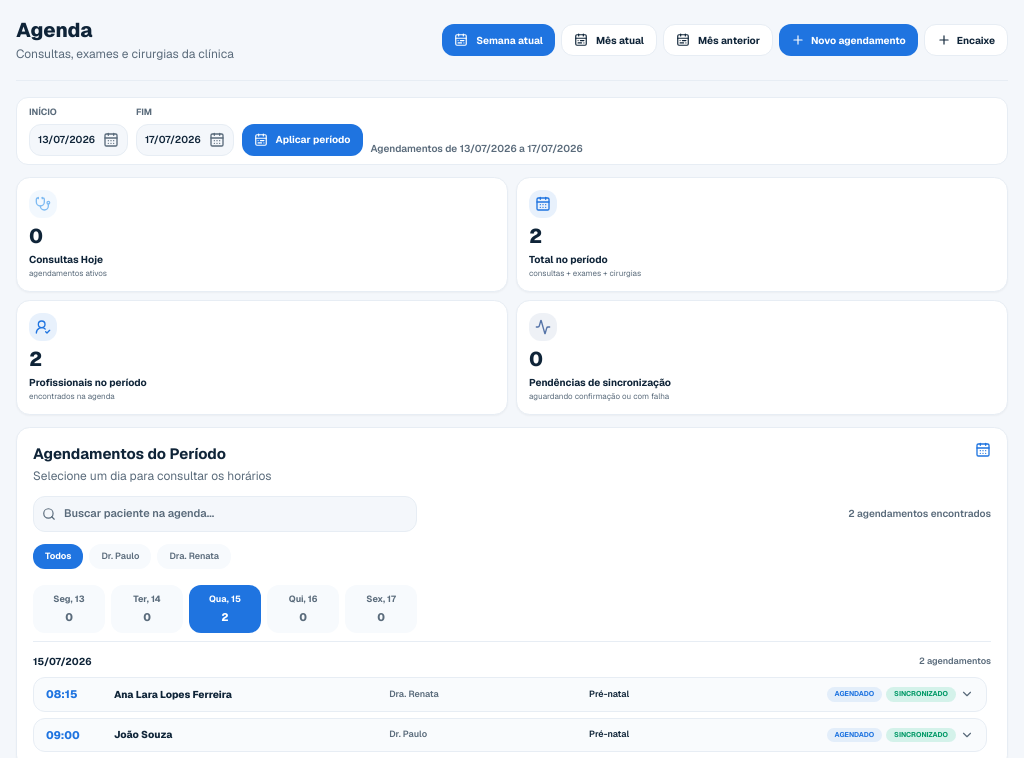
Test: AgendaClient › should_filter_patients_without_fetching_and_combine_with_doctor
The image size is (1024, 758).
Type "  ferreira   ana " into the search field labelled "Buscar paciente na agenda" at (236, 514), box top-left (64, 505), bottom-right (408, 522)
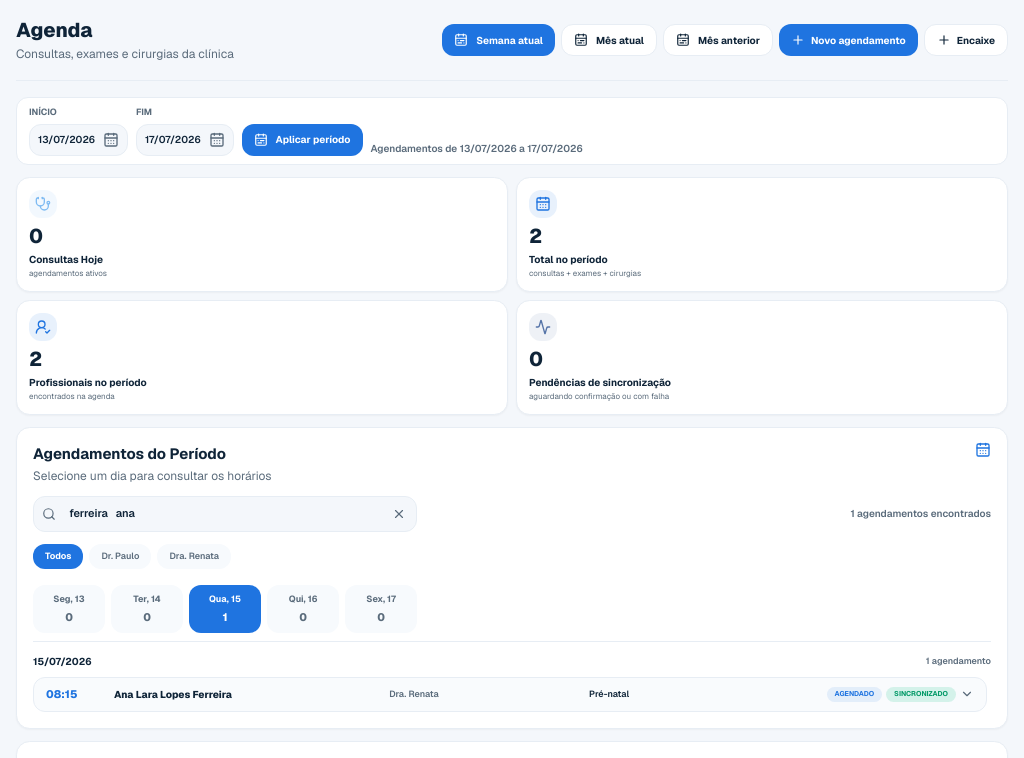
Expected: the text "Ana Lara Lopes Ferreira" is shown, top-left (114, 688), bottom-right (232, 701)
Result: the button "João Souza" is gone
Result: the text "1 agendamentos encontrados" is shown at top-left (850, 506), bottom-right (991, 521)
Press Escape in the search field named "Buscar paciente na agenda", box top-left (64, 505), bottom-right (382, 522)
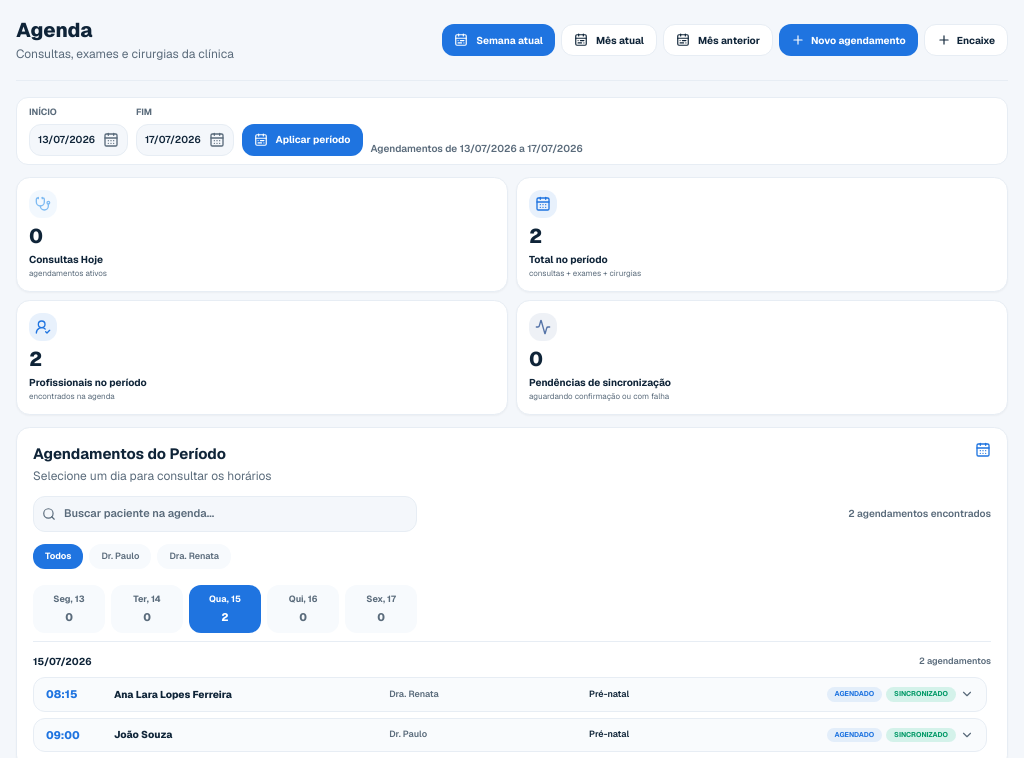
Result: the text "João Souza" is shown at top-left (114, 728), bottom-right (172, 741)
Click the button "Dra. Renata" at (194, 556), box top-left (157, 544), bottom-right (231, 569)
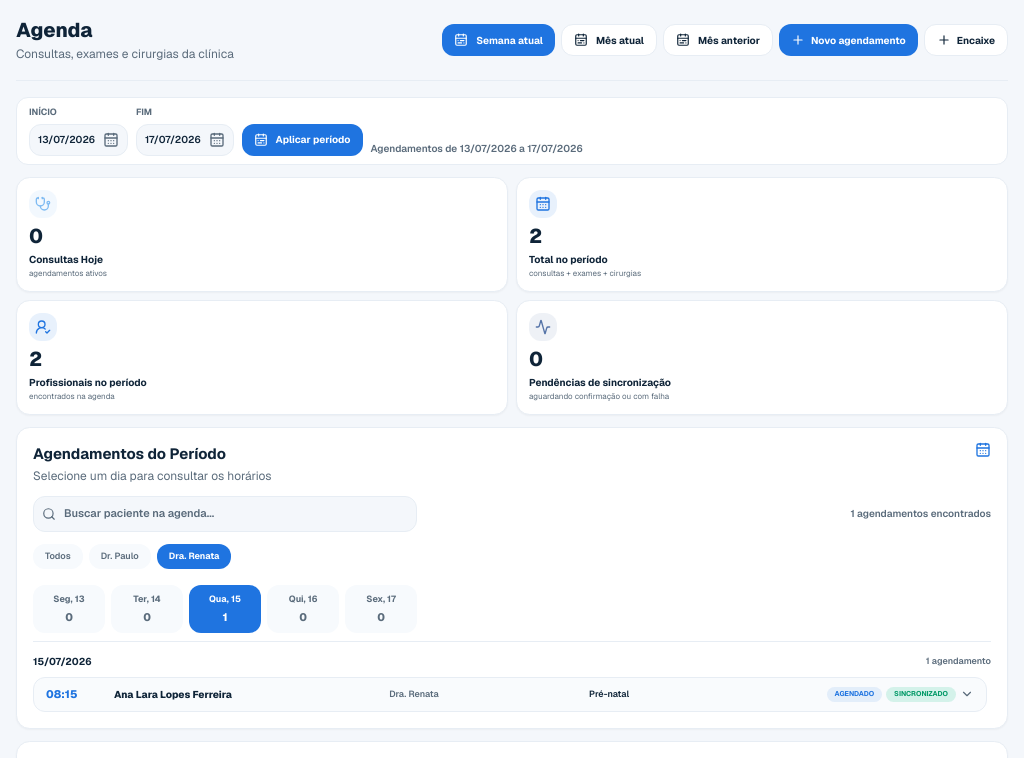
Type "joao" into the search field labelled "Buscar paciente na agenda" at (236, 514), box top-left (64, 505), bottom-right (408, 522)
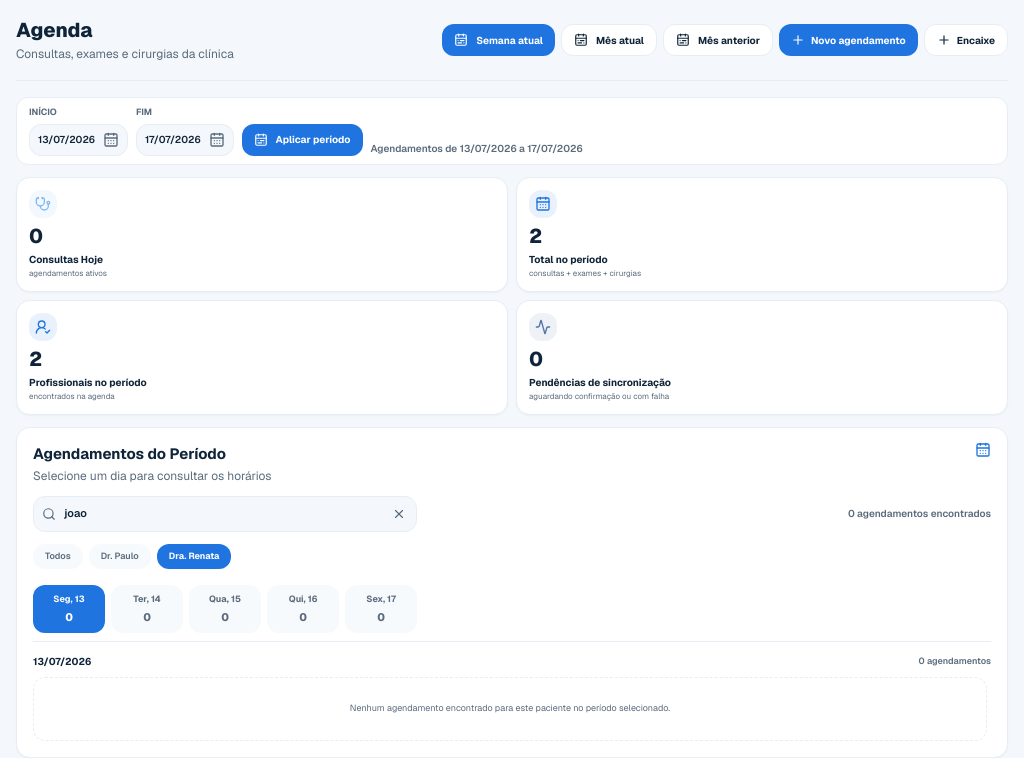
Result: the text "Nenhum agendamento encontrado para este paciente no período selecionado." is shown at top-left (33, 677), bottom-right (987, 740)
